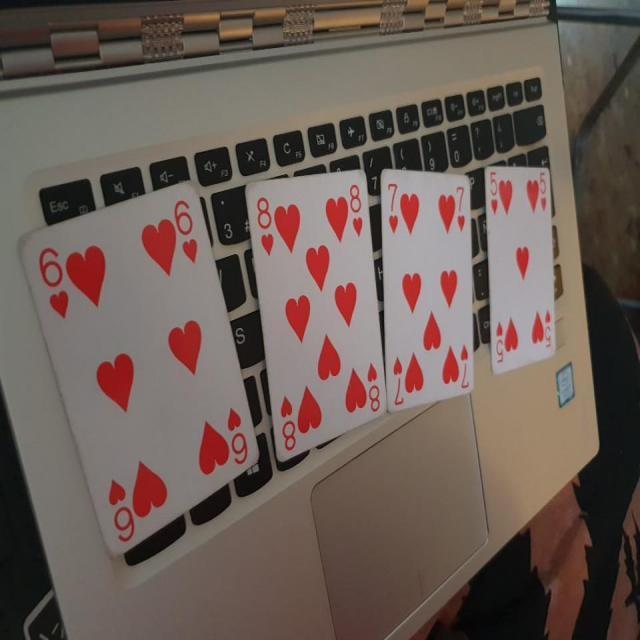5 of hearts: (482, 162, 562, 374)
6 of hearts: (23, 174, 262, 556)
7 of hearts: (375, 162, 478, 416)
8 of hearts: (242, 152, 390, 462)
